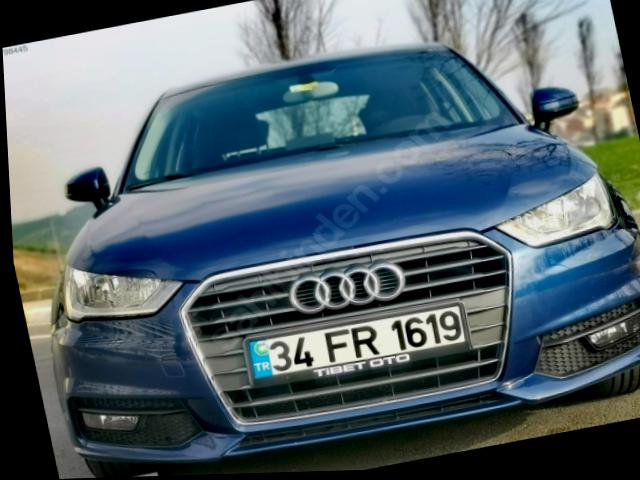plaka: (247, 304, 464, 380)
